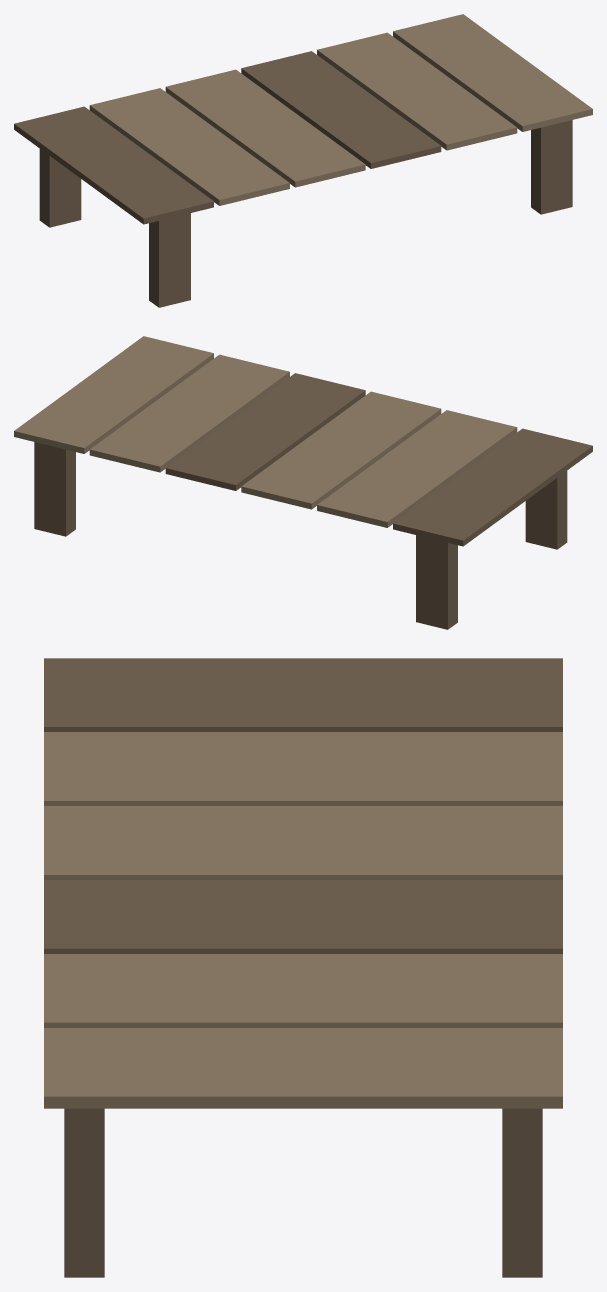
File: long_table.glb
The picture shows the model from 3 angles, top to bottom: view 1: azimuth 30°, elevation 25°; view 2: azimuth 150°, elevation 25°; view 3: azimuth 270°, elevation 25°; orthographic projection. The views are drawn at different scales.
Parts seen in each view (by area): view 1: long_table; view 2: long_table; view 3: long_table.
Part boxes in pixels (x1,y1,x2,y2): long_table: (14, 14, 592, 307); long_table: (14, 336, 592, 629); long_table: (44, 658, 562, 1277).
Bounding box in the file's own units: 3.84 × 0.8 × 1.92.
